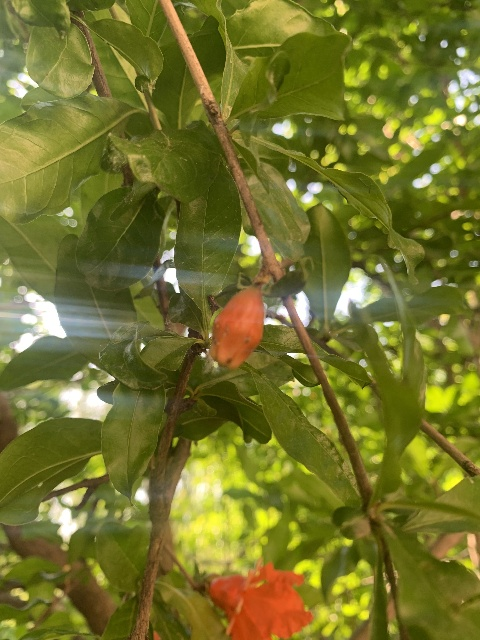bud: (210, 286, 264, 370)
flower: (209, 559, 312, 640)
